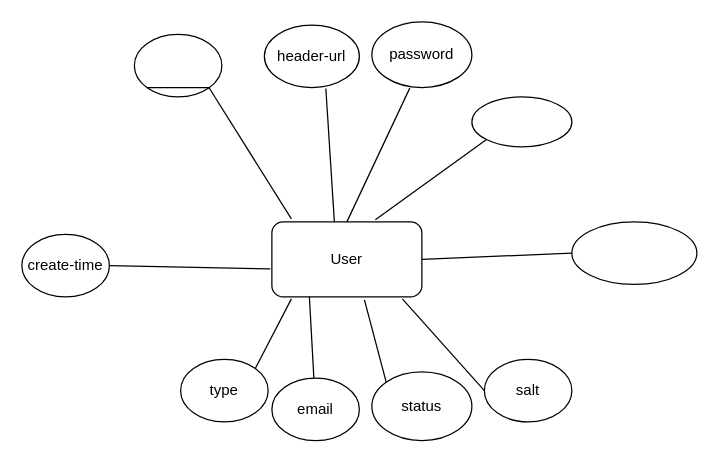
This 719x463 diagram has some shape labels left out. The centre of each missing label's shape, as x and y in pixels:
"activation-code" belongs at point (634, 252).
"id" belongs at point (177, 65).
"username" belongs at point (521, 121).
